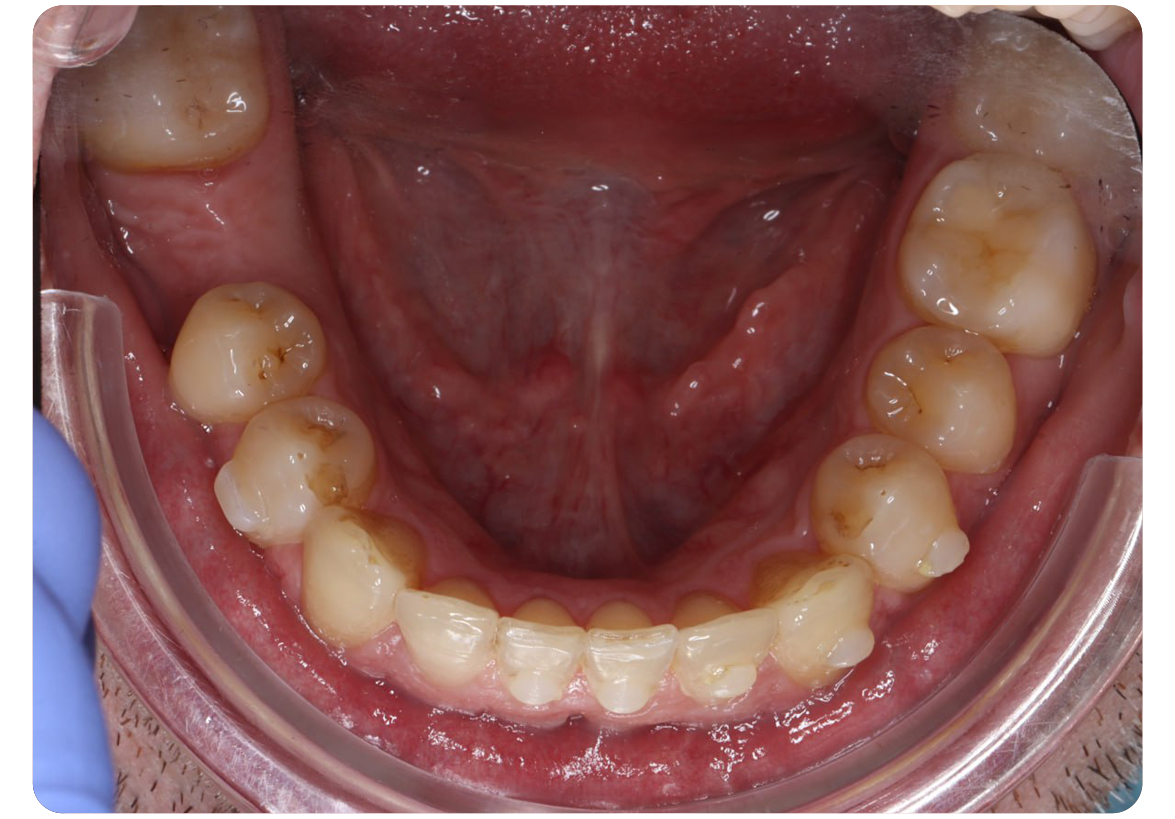LL1BC_decay: (822, 436, 965, 584)
LL1M_decay: (906, 159, 1088, 344)
LL2BC_decay: (867, 331, 1016, 462)
LLCI_decay: (587, 607, 670, 708)
LLC_decay: (778, 556, 877, 674)
LLLI_decay: (679, 606, 774, 706)
LR1BC_decay: (228, 399, 370, 524)
LR1M_decay: (139, 172, 304, 284)
LR2BC_decay: (178, 286, 320, 414)
LR2M_decay: (106, 48, 266, 160)
LRCI_decay: (499, 604, 582, 705)
LRC_decay: (305, 511, 413, 639)
LRLI_decay: (402, 577, 498, 684)
